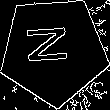N_E: (28, 29, 80, 72)
